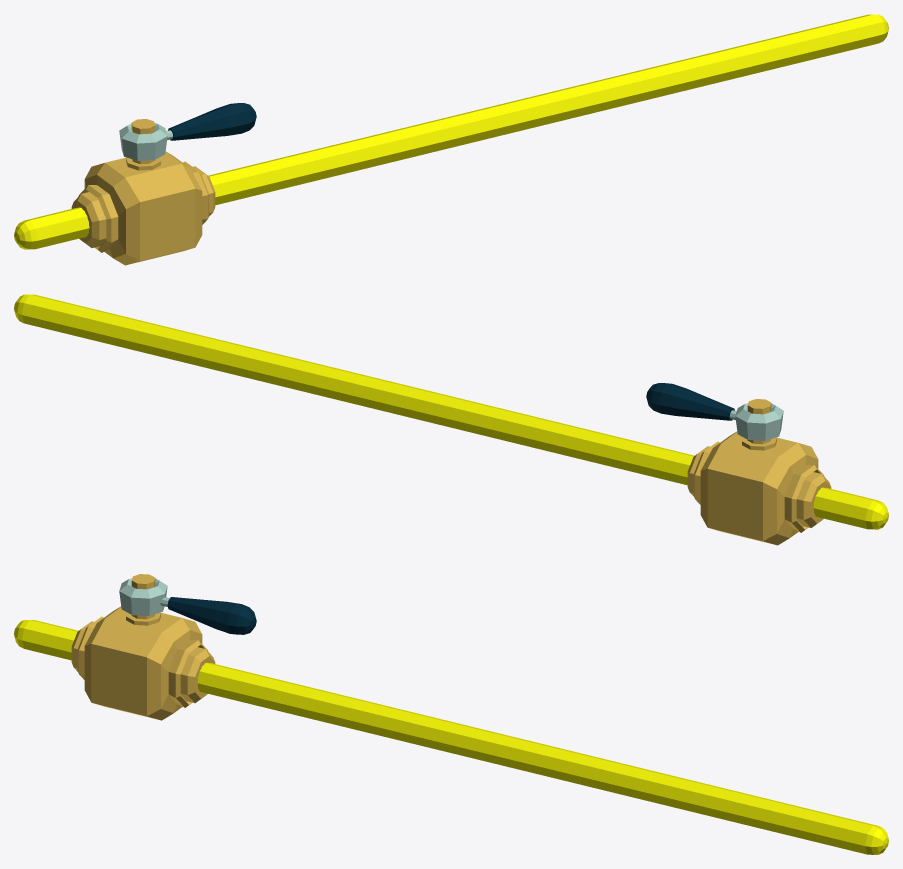
File: pipe_edge_w_valve_c.glb
The picture shows the model from 3 angles, top to bottom: view 1: azimuth 30°, elevation 25°; view 2: azimuth 150°, elevation 25°; view 3: azimuth 330°, elevation 25°; orthographic projection.
Visible parts, largest first — view 1: polySurface8, polySurface7; view 2: polySurface8, polySurface7; view 3: polySurface8, polySurface7.
Part boxes in pixels (left/top/right/bottom): polySurface8: left=14, top=14, right=888, bottom=249; polySurface7: left=71, top=103, right=256, bottom=265; polySurface8: left=14, top=294, right=888, bottom=529; polySurface7: left=646, top=383, right=831, bottom=545; polySurface8: left=14, top=620, right=888, bottom=854; polySurface7: left=71, top=574, right=256, bottom=720.
Size of the model in its own units: 3.15 by 0.4399 by 0.3043.
